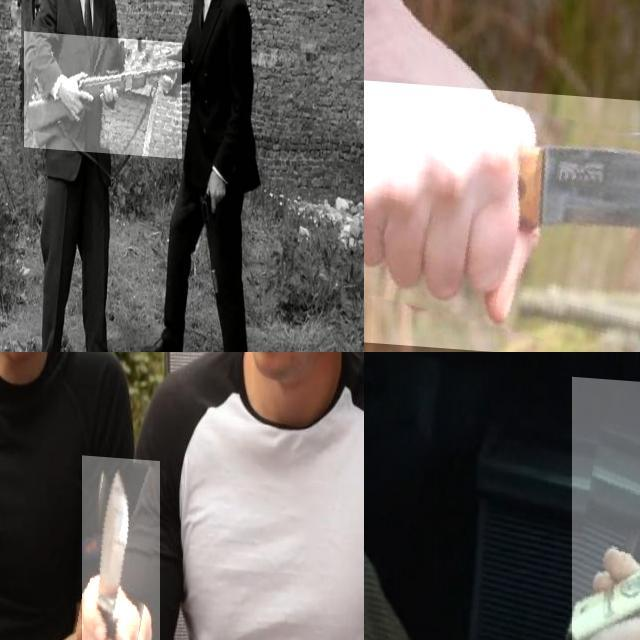-: (364, 74, 640, 352), (81, 451, 160, 640)
gun-knife-thesis - v11 Yolov5 augmented: (24, 28, 182, 152), (572, 373, 640, 640)
